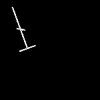double_crochet: (12, 7, 34, 51)
